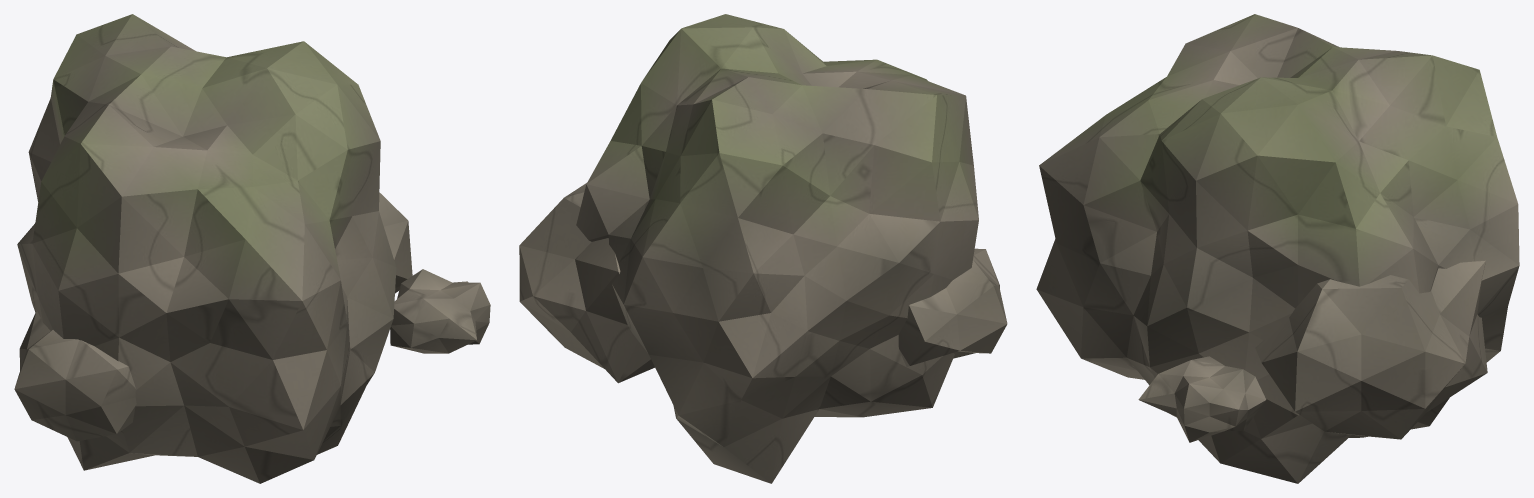
Rendered from rock_c-gj2d31bw.glb.
3 renders of one model, left to right at view 1: azimuth 30°, elevation 25°; view 2: azimuth 150°, elevation 25°; view 3: azimuth 270°, elevation 25°, orthographic. The views are drawn at different scales.
Visible parts, largest first — view 1: Rock; view 2: Rock; view 3: Rock.
Part boxes in pixels (x1=…): Rock: x1=14, y1=14, x2=490, y2=483; Rock: x1=519, y1=14, x2=1007, y2=483; Rock: x1=1036, y1=14, x2=1519, y2=483.
Size of the model in its own units: 0.793 by 0.6852 by 0.7635.
Materials: 1 (1 with a texture image).
